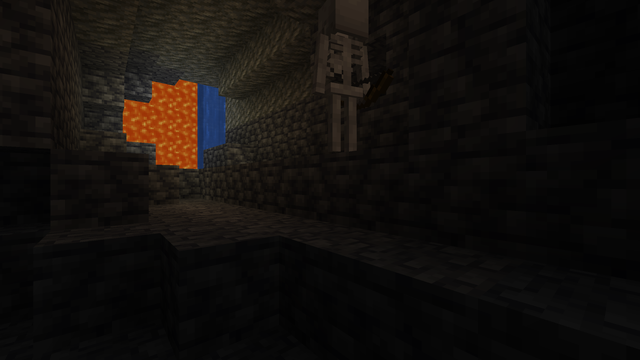squelettes: (311, 0, 373, 155)
